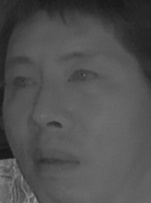eye: (64, 65, 99, 92), (8, 74, 39, 94)
mouth: (29, 144, 83, 177)
